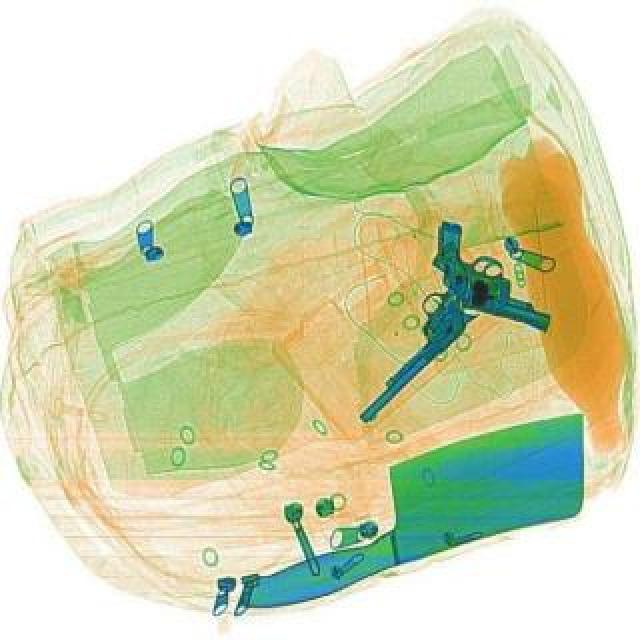gun: (336, 268, 492, 432), (406, 216, 578, 348)
knife: (212, 398, 620, 618)
